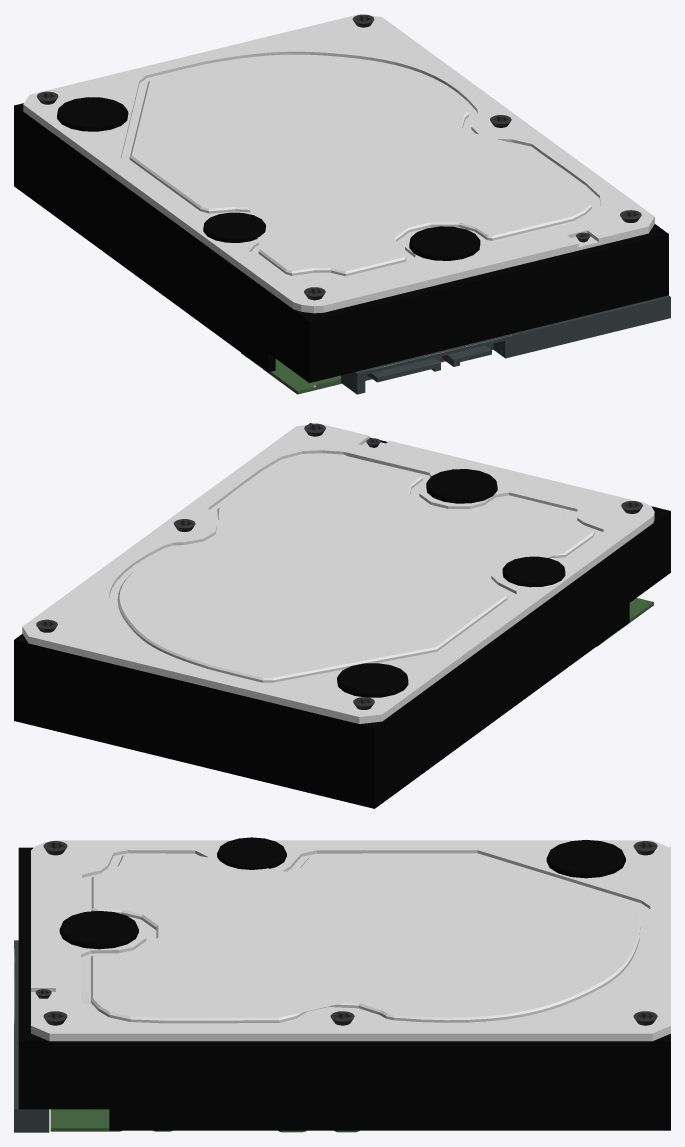
The model's file is HDD.fbx.
The picture shows the model from 3 angles, top to bottom: view 1: azimuth 30°, elevation 25°; view 2: azimuth 150°, elevation 25°; view 3: azimuth 270°, elevation 25°; orthographic projection. The views are drawn at different scales.
Visible parts, largest first — view 1: HDD_Base, Cube, Cube.002, Circle.002, Circle, Circle.001, Bolt, Cube.001; view 2: HDD_Base, Cube, Circle, Circle.002, Circle.001, Bolt; view 3: HDD_Base, Cube, Circle, Circle.002, Circle.001, Cube.002, Cube.001, Bolt.
Boxes of the visible parts, left/top/right/bottom form: HDD_Base: left=23, top=14, right=654, bottom=313; Cube: left=14, top=103, right=668, bottom=382; Cube.002: left=341, top=295, right=670, bottom=394; Circle.002: left=57, top=97, right=128, bottom=131; Circle: left=409, top=226, right=480, bottom=260; Circle.001: left=203, top=212, right=265, bottom=242; Bolt: left=37, top=14, right=641, bottom=300; Cube.001: left=241, top=353, right=341, bottom=394; HDD_Base: left=22, top=423, right=654, bottom=723; Cube: left=14, top=423, right=670, bottom=808; Circle: left=426, top=469, right=497, bottom=503; Circle.002: left=337, top=663, right=408, bottom=697; Circle.001: left=502, top=556, right=565, bottom=587; Bolt: left=36, top=423, right=642, bottom=709; HDD_Base: left=31, top=840, right=670, bottom=1041; Cube: left=18, top=847, right=670, bottom=1130; Circle: left=59, top=910, right=138, bottom=949; Circle.002: left=546, top=840, right=625, bottom=878; Circle.001: left=217, top=837, right=286, bottom=869; Cube.002: left=14, top=940, right=49, bottom=1132; Cube.001: left=50, top=1109, right=359, bottom=1132; Bolt: left=35, top=841, right=657, bottom=1025.
Bounding box in the file's own units: 347 × 89.26 × 497.
